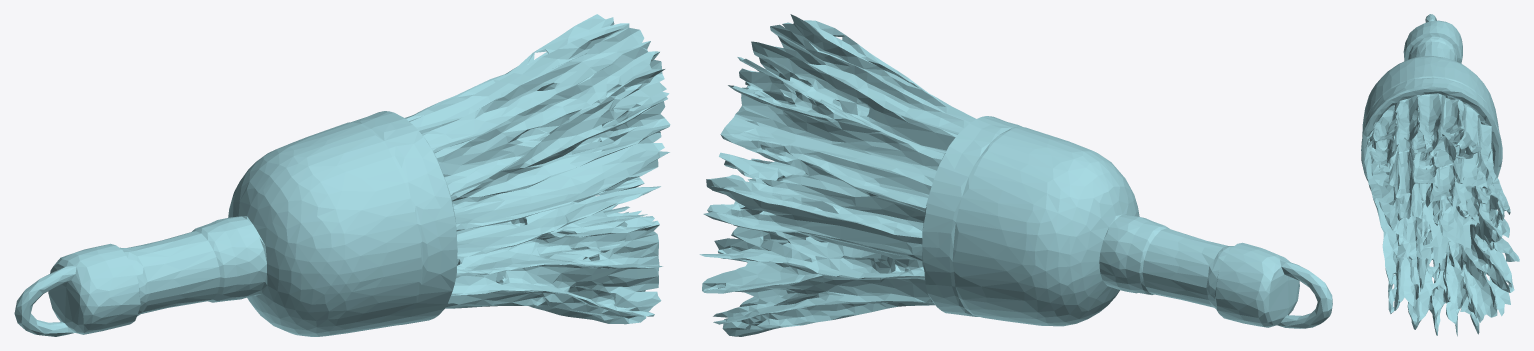
File: lab_brush.obj
3 renders of one model, left to right at view 1: azimuth 30°, elevation 25°; view 2: azimuth 150°, elevation 25°; view 3: azimuth 270°, elevation 25°, orthographic. The views are drawn at different scales.
Visible parts, largest first — view 1: geometry_0; view 2: geometry_0; view 3: geometry_0.
Boxes of the visible parts, bbox=[...] form: geometry_0: bbox=[14, 14, 670, 336]; geometry_0: bbox=[699, 14, 1332, 336]; geometry_0: bbox=[1361, 14, 1519, 336].
Size of the model in its own units: 0.2203 by 0.1041 by 0.072.
